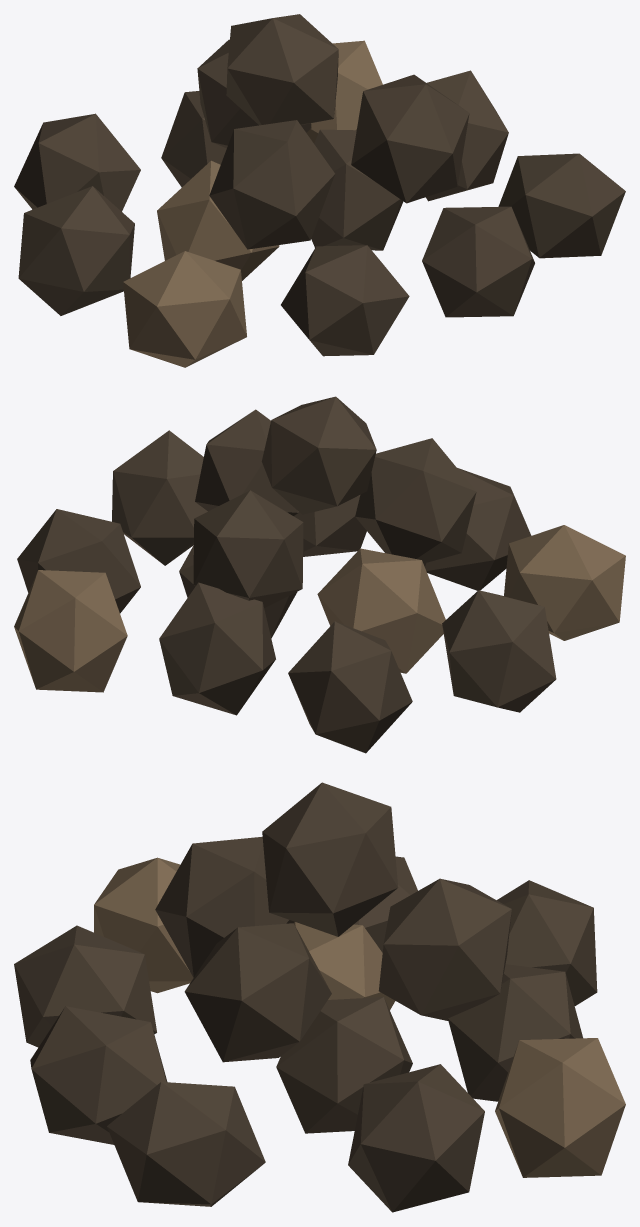
The model's file is harvest_drop_blackpepper.glb.
3 renders of one model, top to bottom at view 1: azimuth 30°, elevation 25°; view 2: azimuth 150°, elevation 25°; view 3: azimuth 270°, elevation 25°, orthographic. The views are drawn at different scales.
Visible parts, largest first — view 1: BlackPeppercorn_01, BlackPeppercorn_00; view 2: BlackPeppercorn_01, BlackPeppercorn_00; view 3: BlackPeppercorn_01, BlackPeppercorn_00.
Part boxes in pixels (box(x1,y1,x2,y2)): BlackPeppercorn_01: box(14, 14, 625, 356); BlackPeppercorn_00: box(123, 40, 382, 367); BlackPeppercorn_01: box(17, 396, 556, 753); BlackPeppercorn_00: box(14, 525, 625, 692); BlackPeppercorn_01: box(14, 782, 597, 1212); BlackPeppercorn_00: box(94, 857, 625, 1177).
Bounding box in the file's own units: 0.4798 × 0.2331 × 0.4253.
